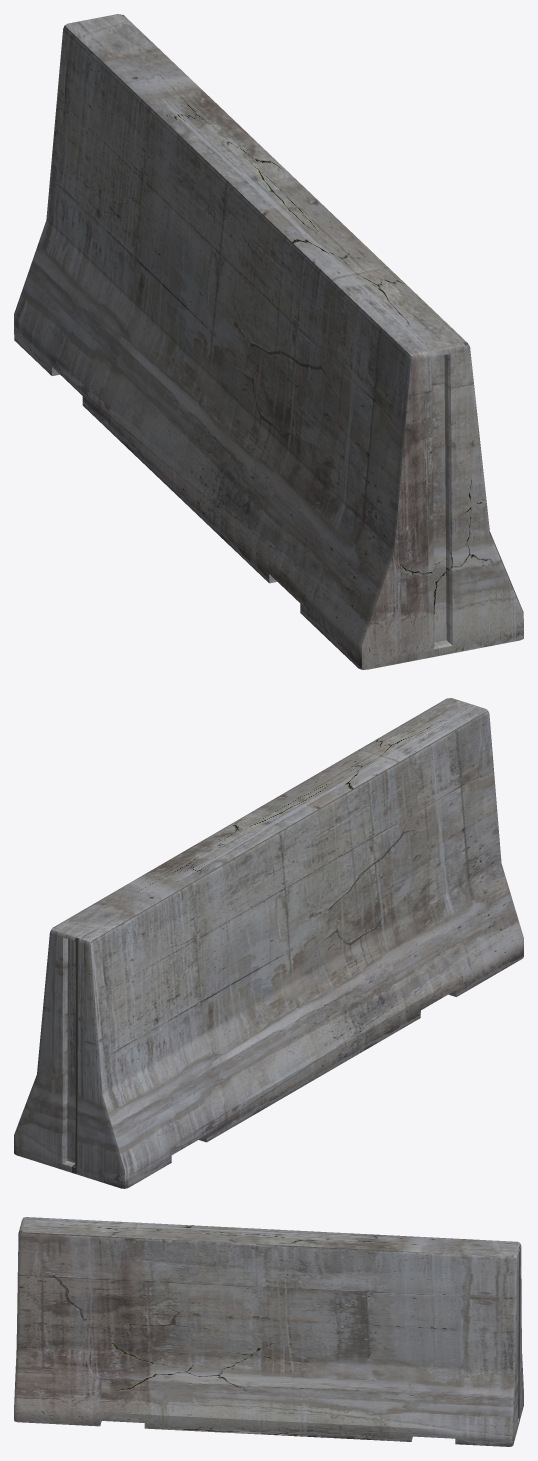
Rendered from City_Barricade012.fbx.
3 renders of one model, top to bottom at view 1: azimuth 30°, elevation 25°; view 2: azimuth 150°, elevation 25°; view 3: azimuth 270°, elevation 25°, orthographic. The views are drawn at different scales.
Visible parts, largest first — view 1: Barricade_012; view 2: Barricade_012; view 3: Barricade_012.
Boxes of the visible parts, box(x1,y1,x2,y2) form: Barricade_012: box(14, 14, 523, 669); Barricade_012: box(14, 698, 523, 1188); Barricade_012: box(14, 1217, 523, 1446).
Bounding box in the file's own units: 93.75 × 117 × 302.
1 material, 1 textured.
